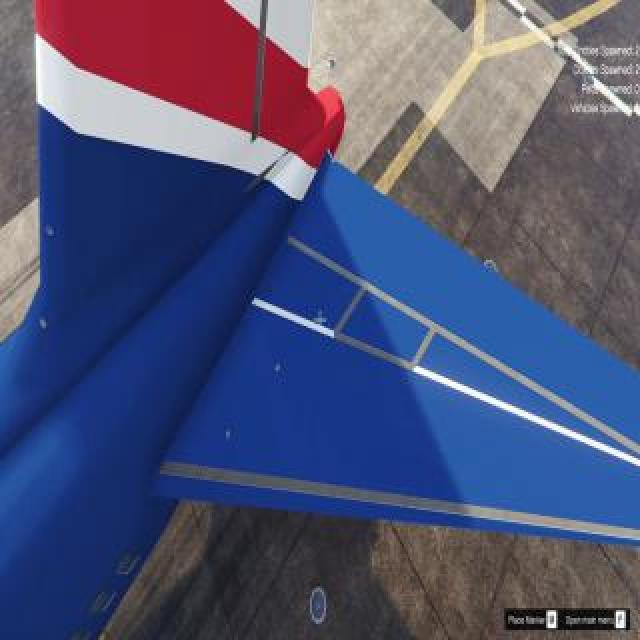crack: (46, 225, 56, 243), (39, 316, 49, 332), (224, 430, 234, 446), (274, 364, 282, 374)
